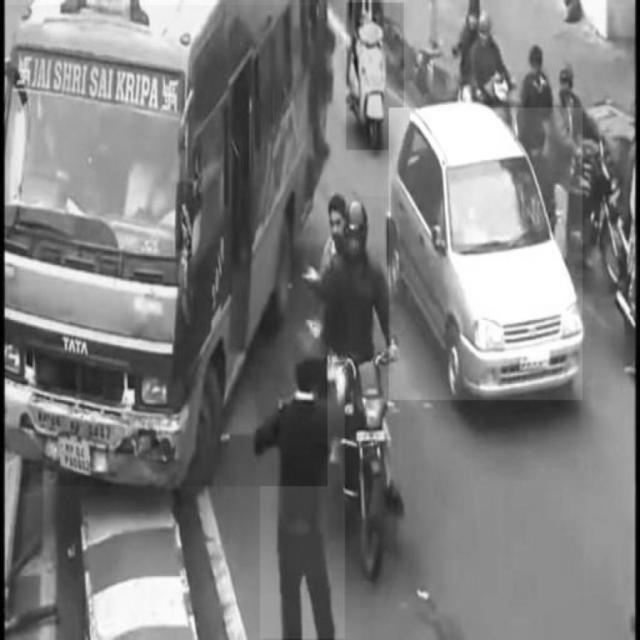person: (260, 360, 344, 638)
vehicle: (6, 5, 328, 485), (389, 107, 583, 401), (309, 197, 399, 581), (347, 3, 404, 150)
